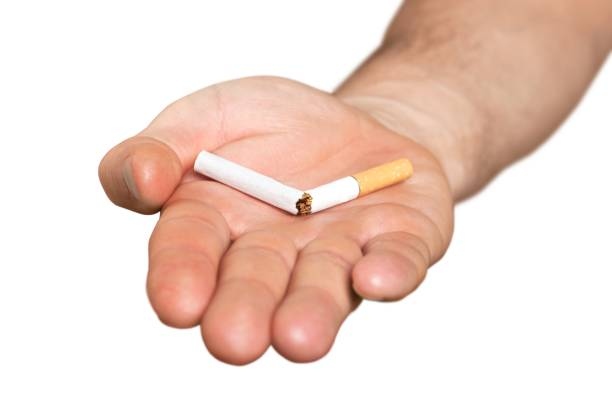cigarette: (192, 148, 309, 220), (303, 156, 415, 217)
